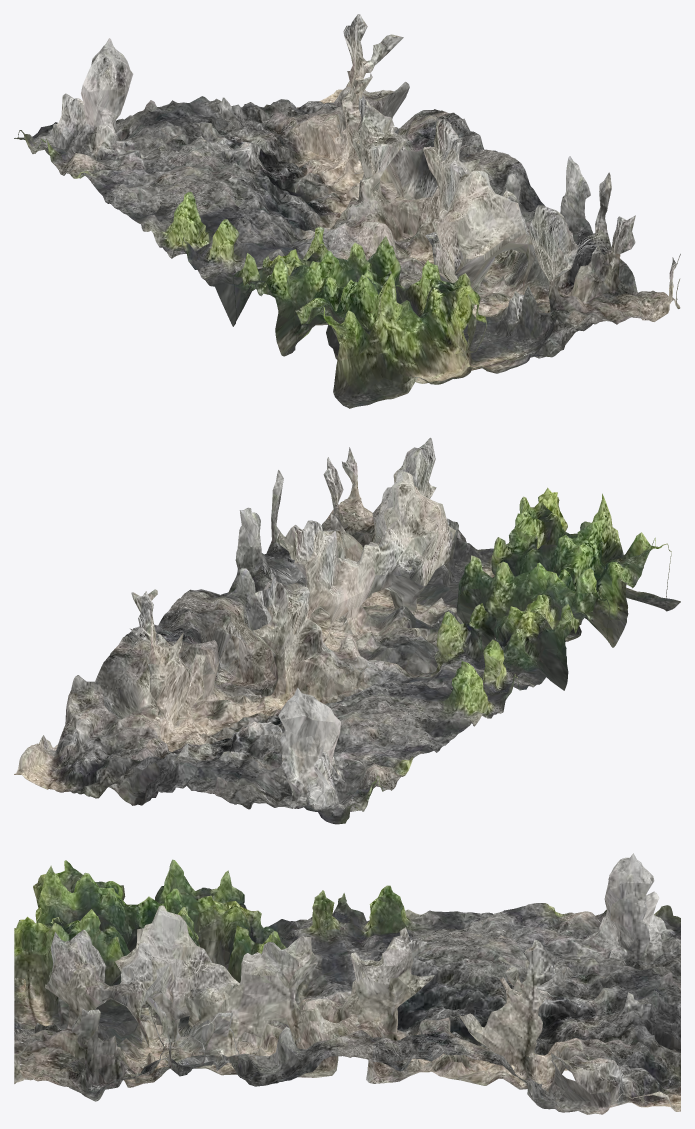
Rendered from Block_L19_170.glb.
3 views of the same model, one above another, from view 1: azimuth 30°, elevation 25°; view 2: azimuth 150°, elevation 25°; view 3: azimuth 270°, elevation 25° (orthographic).
Parts seen in each view (by area): view 1: rtc; view 2: rtc; view 3: rtc.
Boxes of the visible parts, <box> form: rtc: <box>14,14,680,408</box>; rtc: <box>14,437,680,824</box>; rtc: <box>14,853,680,1114</box>.
Size of the model in its own units: 20.15 by 8.75 by 35.3.
Materials: 2 (2 with a texture image).
